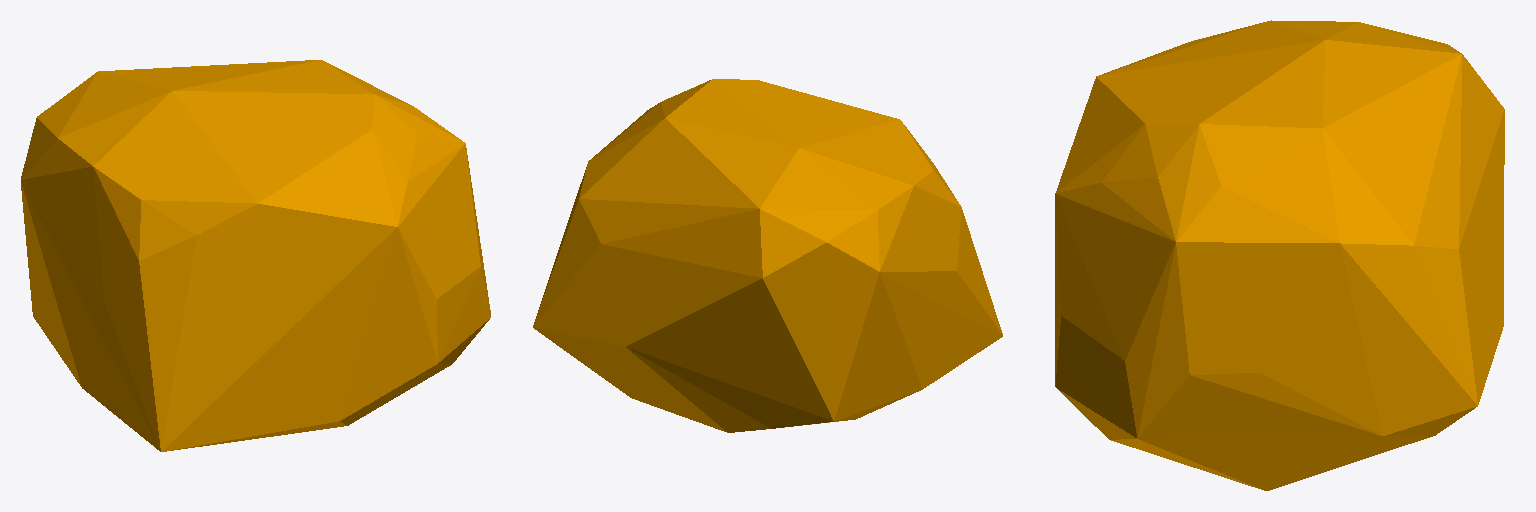
URDF robot description (060_011_4697):
<?xml version="1.0"?>
<robot name="060_011_4697">
  <link name="link">
    <contact>
      <lateral_friction value="0.6"/>
    </contact>
    <inertial>
      <mass value = "0.46555032261078994"/>
      <inertia ixx="0.00022190192049925352" ixy="-1.3322741225318241e-06" ixz="-1.1517270209275874e-06" iyy="0.0002530477351129414" iyz="6.8064196205682915e-06" izz="0.0002784773326822361" />
    </inertial>
    <visual name="visual">
      <geometry>
        <mesh filename="060_011_4697.obj"/>
      </geometry>
    </visual>
    <collision name="collision">
      <geometry>
        <mesh filename="060_011_4697.obj"/>
      </geometry>
    </collision>
  </link>
</robot>

--- Facts derived from the render (not from the file) ---
3 views of the same robot in one strip: view 1: azimuth 30°, elevation 25°; view 2: azimuth 150°, elevation 25°; view 3: azimuth 270°, elevation 25° (orthographic).
Model 060_011_4697 with 1 links and 0 joints (none), rooted at link, posed all joints at 0.
Visible links, largest first — view 1: link; view 2: link; view 3: link.
Link boxes in pixels (x1,y1,x2,y2): link: [21, 60, 490, 451]; link: [533, 79, 1002, 432]; link: [1055, 20, 1504, 490].
Bounding box of the posed robot: 0.0738 × 0.0674 × 0.0653 m (x, y, z).
Meshes: 1 distinct files referenced, 1 mesh visuals loaded (1 OBJ).
